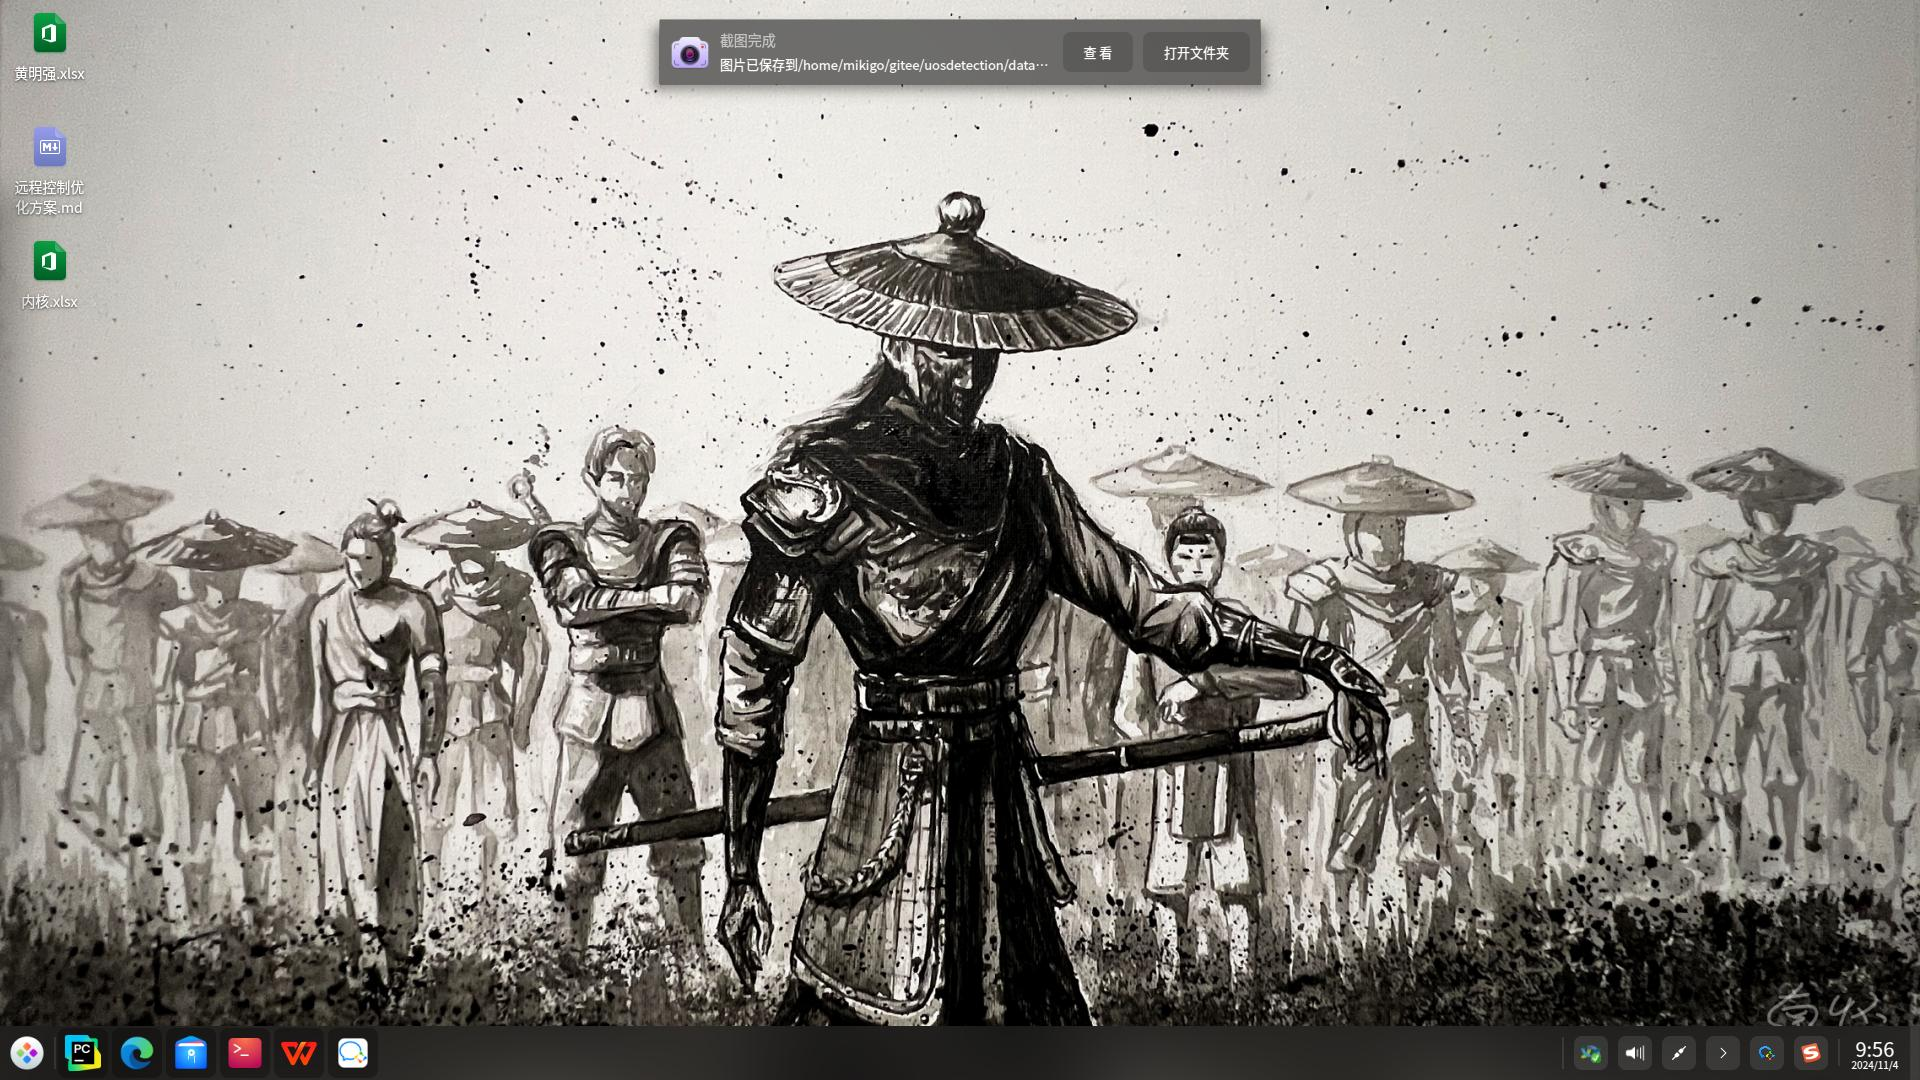dde_file_manager_icon: (174, 1034, 208, 1073)
dde_launcher_icon: (11, 1034, 45, 1072)
